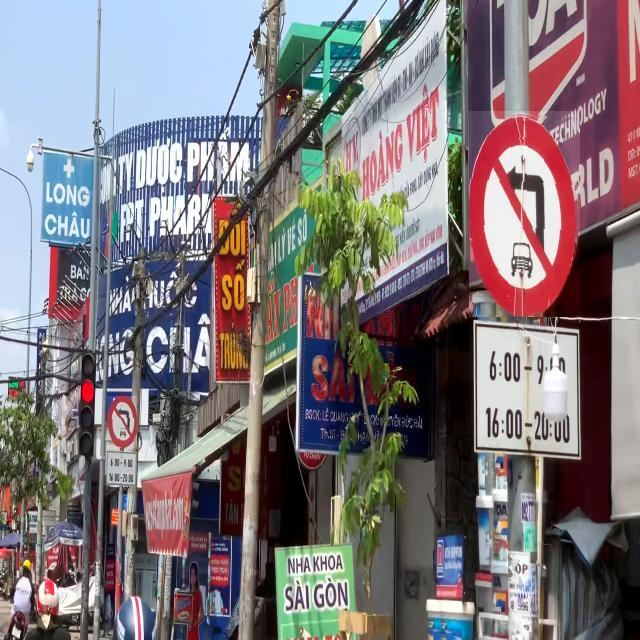P-103c: (469, 111, 580, 317), (107, 396, 137, 449)
